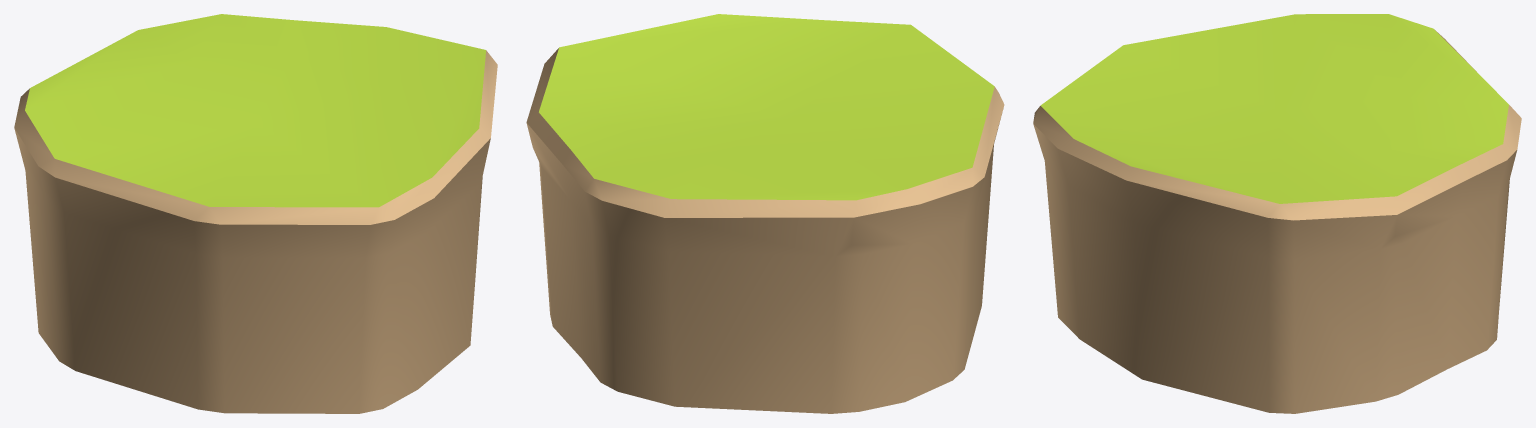
The model's file is Island.fbx.
3 renders of one model, left to right at view 1: azimuth 30°, elevation 25°; view 2: azimuth 150°, elevation 25°; view 3: azimuth 270°, elevation 25°, orthographic. The views are drawn at different scales.
Visible parts, largest first — view 1: Cube; view 2: Cube; view 3: Cube.
Part boxes in pixels (x1,y1,x2,y2): Cube: [14, 14, 497, 413]; Cube: [526, 14, 1004, 413]; Cube: [1033, 14, 1521, 413].
Size of the model in its own units: 342 by 165 by 338.
